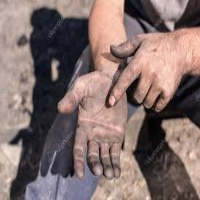ring: (99, 139, 114, 180), (144, 81, 159, 111)
